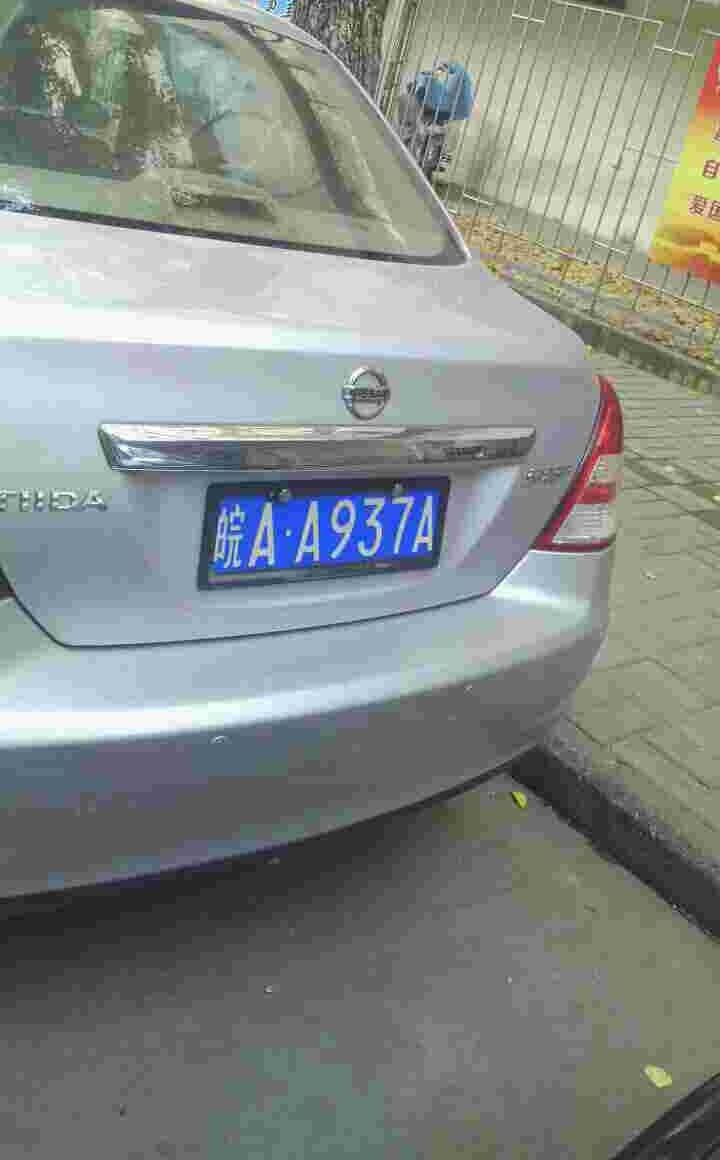license_plate: (217, 486, 459, 570)
